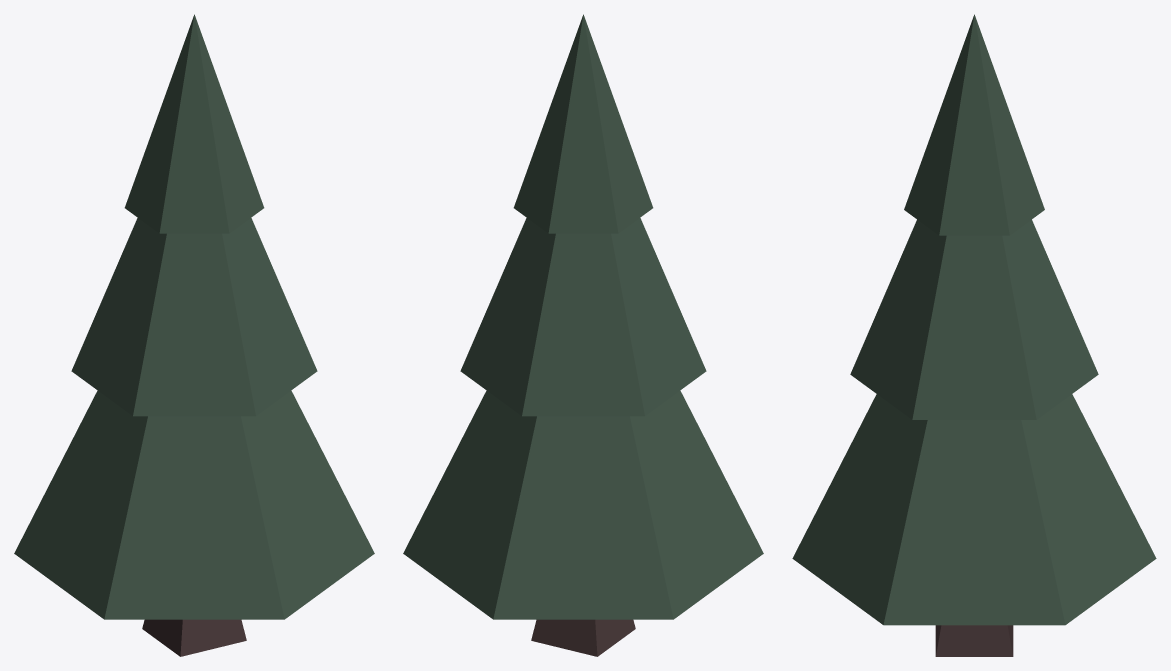
Rendered from pine-med.dae.
The picture shows the model from 3 angles, left to right: view 1: azimuth 30°, elevation 25°; view 2: azimuth 150°, elevation 25°; view 3: azimuth 270°, elevation 25°; orthographic projection.
Parts seen in each view (by area): view 1: Cone_001, Cone_002, Cone_003, Cube; view 2: Cone_001, Cone_002, Cone_003, Cube; view 3: Cone_001, Cone_002, Cone_003, Cube.
Part boxes in pixels (x1,y1,x2,y2): Cone_001: (14, 390, 374, 619); Cone_002: (71, 218, 317, 416); Cone_003: (124, 14, 264, 233); Cube: (142, 619, 246, 656); Cone_001: (403, 390, 763, 619); Cone_002: (460, 218, 706, 416); Cone_003: (513, 14, 653, 233); Cube: (531, 619, 635, 656); Cone_001: (792, 394, 1156, 625); Cone_002: (850, 219, 1098, 419); Cone_003: (904, 14, 1044, 235); Cube: (935, 625, 1013, 656).
Size of the model in its own units: 3.94 by 4.55 by 8.63.
